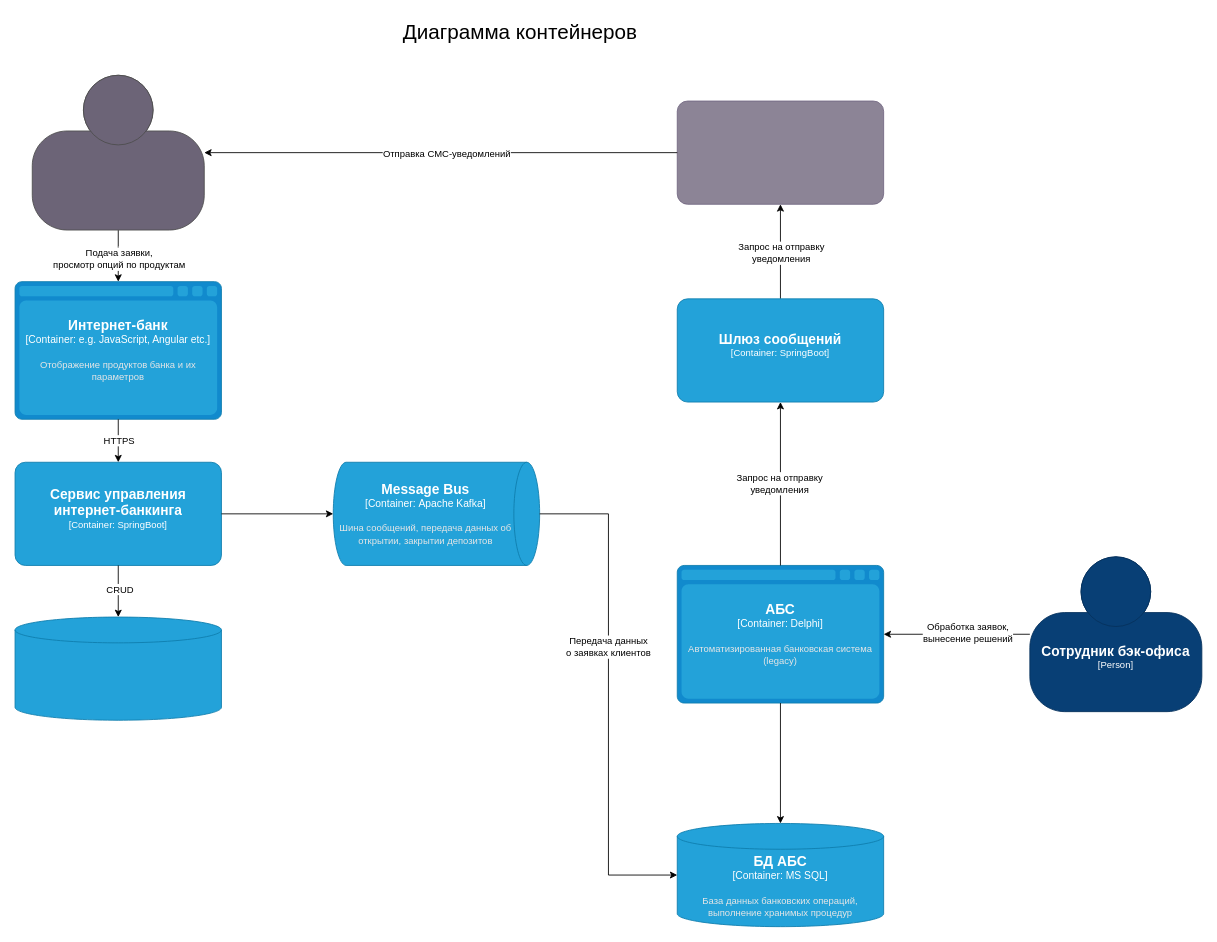
This 1217x942 diagram has some shape labels left out. Each missing label, with the centre of its shape:
"БД ИБ [Container: MS SQL] Хранение заявок, данных клиентов и т. д." goes at (117,668).
"Клиент [Person]" goes at (117,152).
"Телеком-оператор [Software System]" goes at (780,152).
